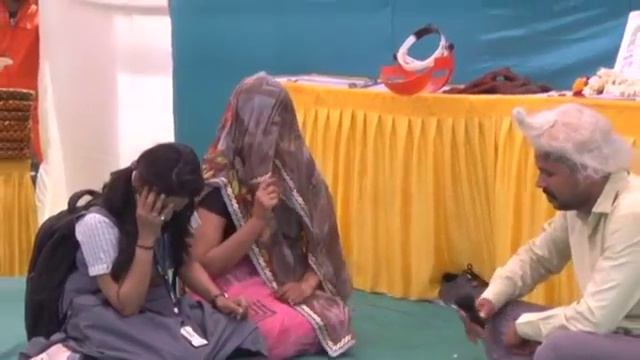helmet_off: (524, 107, 634, 215), (219, 77, 303, 164), (126, 146, 197, 214)
person: (15, 146, 265, 360), (171, 75, 355, 358), (464, 104, 639, 359), (0, 2, 45, 159)
